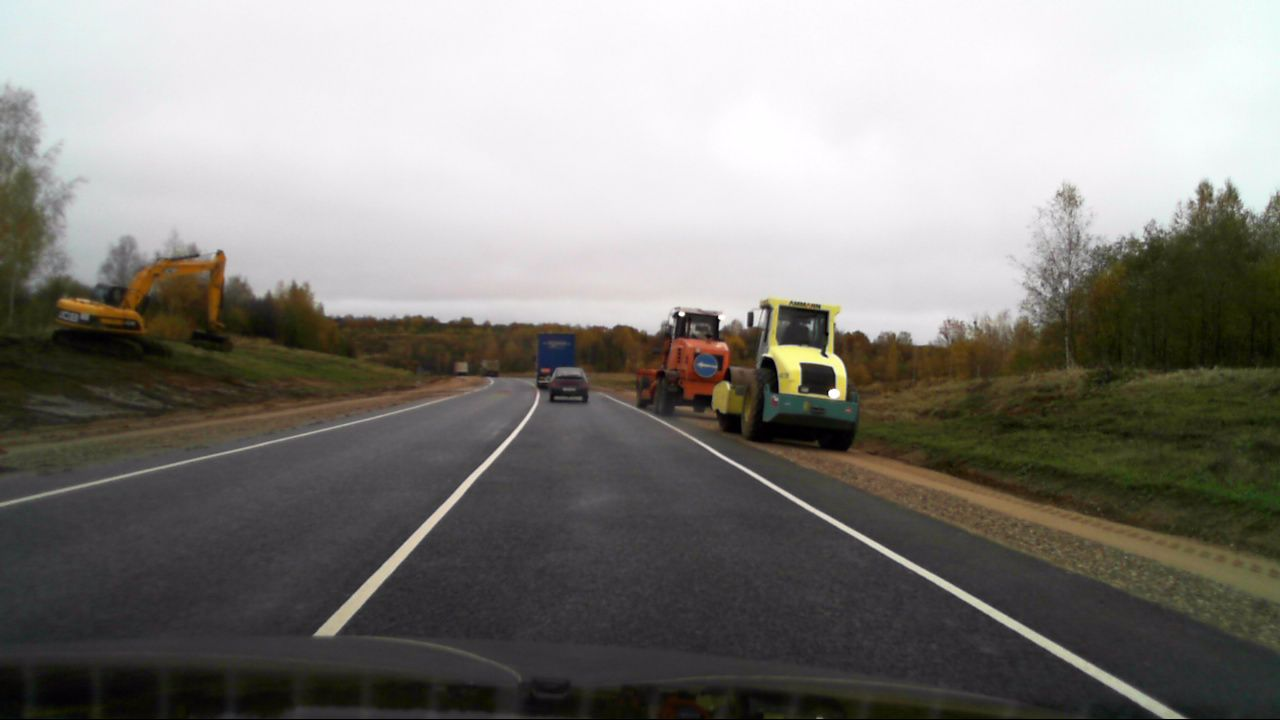Turn Left: (695, 354, 718, 378)
